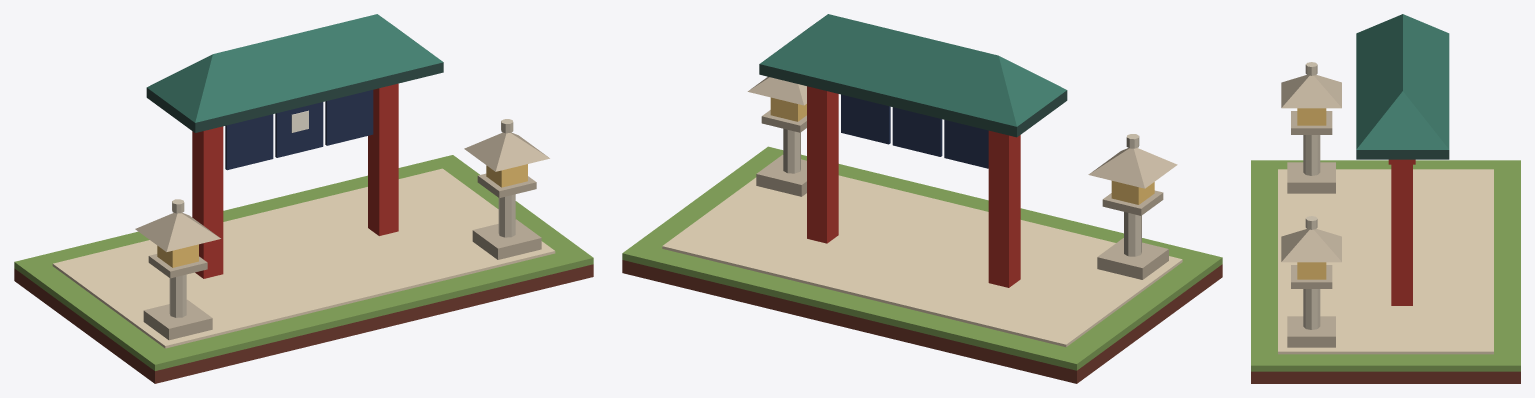
File: bathhouse-gate.glb
3 renders of one model, left to right at view 1: azimuth 30°, elevation 25°; view 2: azimuth 150°, elevation 25°; view 3: azimuth 270°, elevation 25°, orthographic. The views are drawn at different scales.
Visible parts, largest first — view 1: bathhouse-gate; view 2: bathhouse-gate; view 3: bathhouse-gate.
Boxes of the visible parts, box(x1,y1,x2,y2) form: bathhouse-gate: box(14, 14, 593, 383); bathhouse-gate: box(622, 14, 1222, 383); bathhouse-gate: box(1251, 14, 1520, 383).
Size of the model in its own units: 3.6 by 1.87 by 2.
